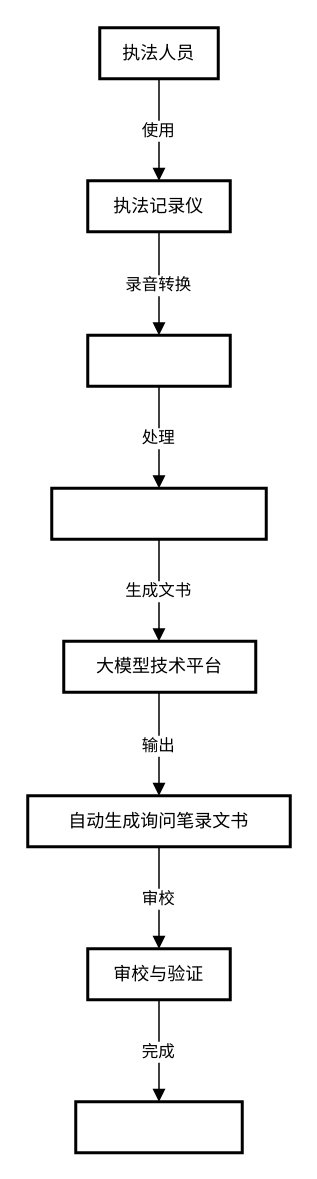
Some shapes in this 317 by 1179 pixel diagram are drawn without their labels. Each missing label, with the centre of its shape:
"文本清洗与结构化" belongs at (158,513).
"最终文书输出" belongs at (158,1127).
"音频转文字" belongs at (158,360).
